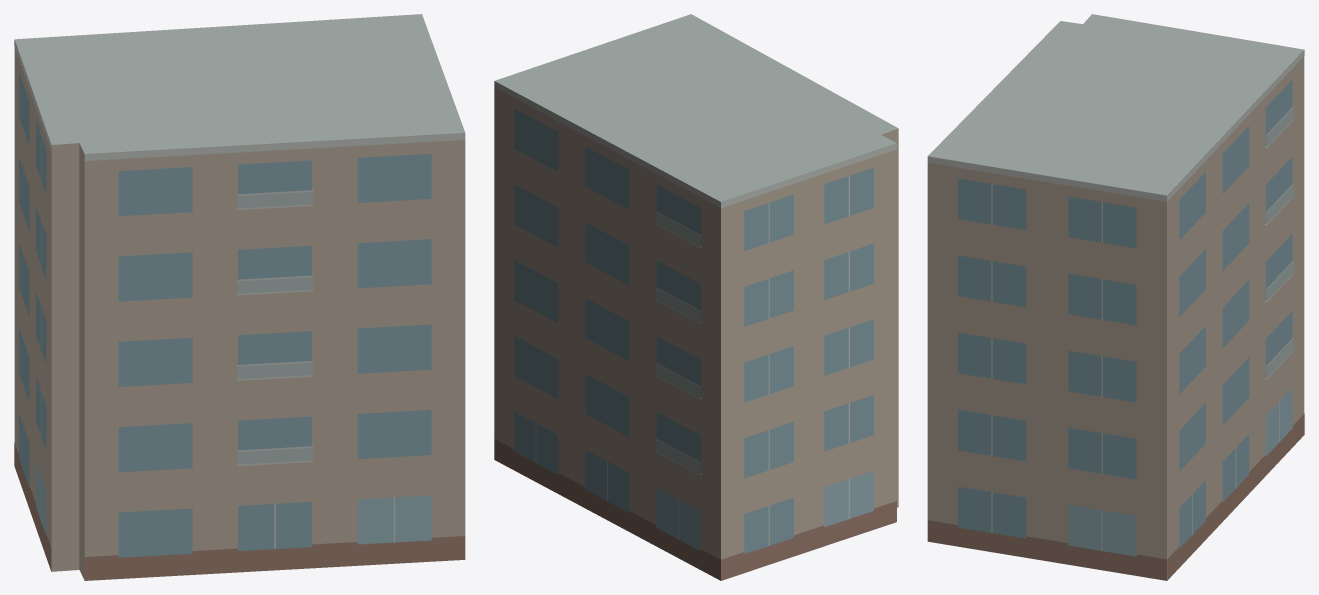
Rendered from survey-upis-32728412.glb.
The picture shows the model from 3 angles, left to right: view 1: azimuth 30°, elevation 25°; view 2: azimuth 150°, elevation 25°; view 3: azimuth 270°, elevation 25°; orthographic projection. The views are drawn at different scales.
Parts seen in each view (by area): view 1: survey-upis-32728412.tmp; view 2: survey-upis-32728412.tmp; view 3: survey-upis-32728412.tmp.
Part boxes in pixels (box(x1,y1,x2,y2)): survey-upis-32728412.tmp: box(14, 14, 465, 580); survey-upis-32728412.tmp: box(494, 14, 898, 580); survey-upis-32728412.tmp: box(927, 14, 1304, 580).
Bounding box in the file's own units: 14.86 × 14.7 × 13.04.
